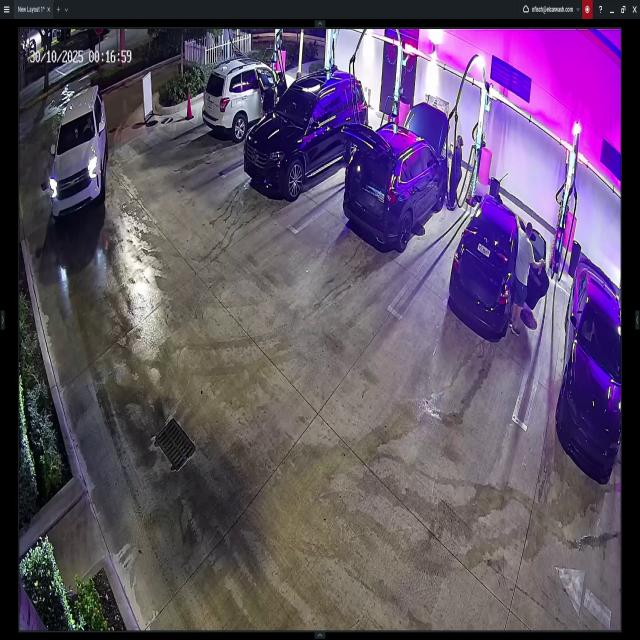Car: (47, 90, 105, 220)
